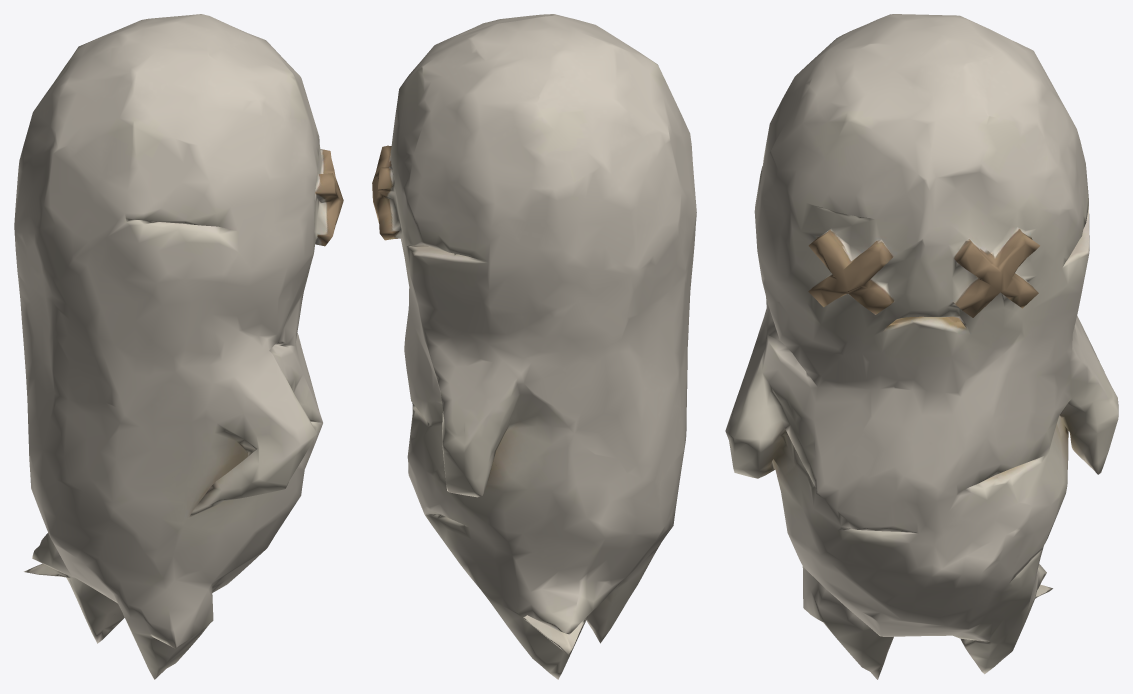
File: die_mandrake.fbx
3 views of the same model, side by side, from view 1: azimuth 30°, elevation 25°; view 2: azimuth 150°, elevation 25°; view 3: azimuth 270°, elevation 25° (orthographic). The views are drawn at different scales.
Visible parts, largest first — view 1: tripo_node_bb68f075; view 2: tripo_node_bb68f075; view 3: tripo_node_bb68f075.
Boxes of the visible parts, x1,y1,x2,y2 form: tripo_node_bb68f075: (14,14,343,679); tripo_node_bb68f075: (372,14,696,679); tripo_node_bb68f075: (725,14,1118,679).
Bounding box in the file's own units: 0.4665 × 1 × 0.5301.
1 material, 1 textured.
